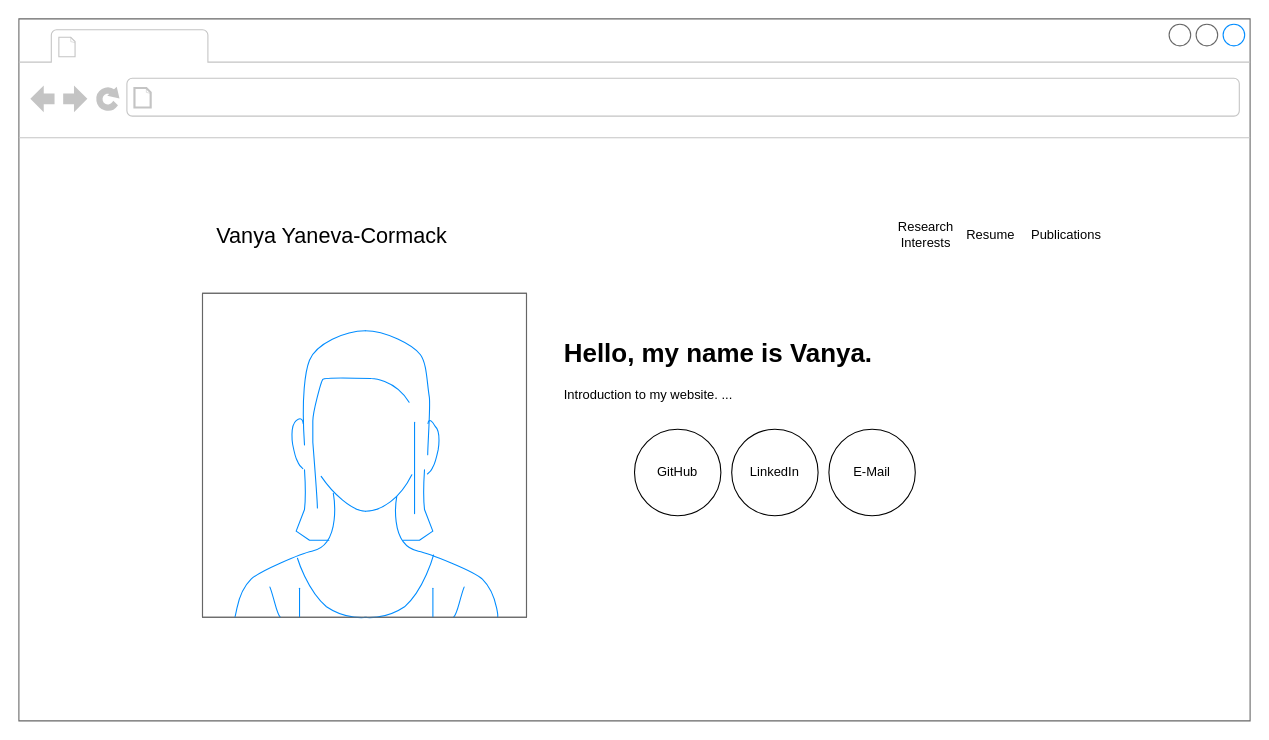
Some shapes in this 1269 by 740 pixel diagram are drawn without their labels. The centre of each missing label's shape, as x and y in pixels:
"https://www.draw.io" belongs at pixel 293 97.
"Page 1" belongs at pixel 142 45.
